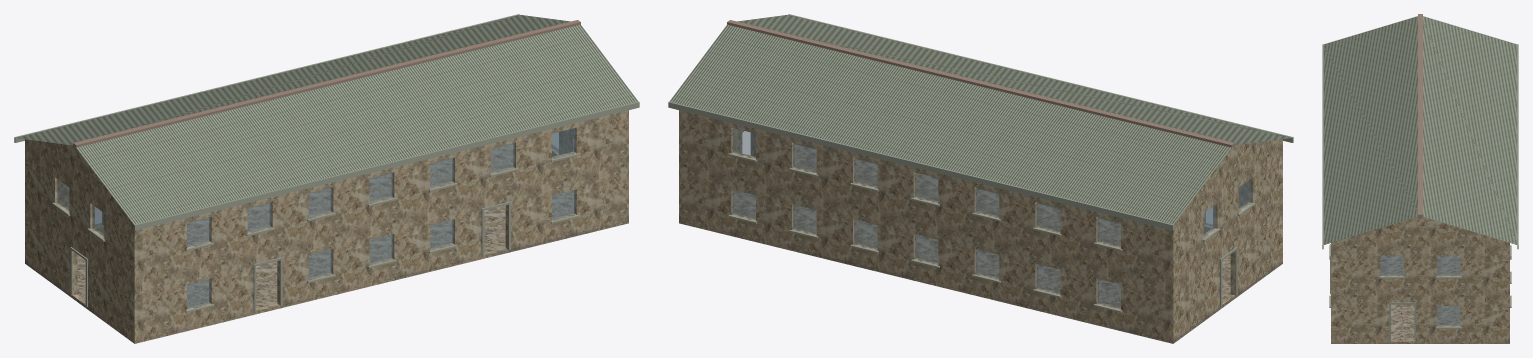
The model's file is barracks-2s.loc-v1.lod1.glb.
3 views of the same model, side by side, from view 1: azimuth 30°, elevation 25°; view 2: azimuth 150°, elevation 25°; view 3: azimuth 270°, elevation 25° (orthographic). The views are drawn at different scales.
Parts seen in each view (by area): view 1: barracks-2s; view 2: barracks-2s; view 3: barracks-2s.
Part boxes in pixels (x1,y1,x2,y2): barracks-2s: (14,14,639,343); barracks-2s: (668,14,1293,343); barracks-2s: (1322,14,1518,343).
Size of the model in its own units: 26.54 by 8.09 by 10.98.
Materials: 4 (2 with a texture image).
